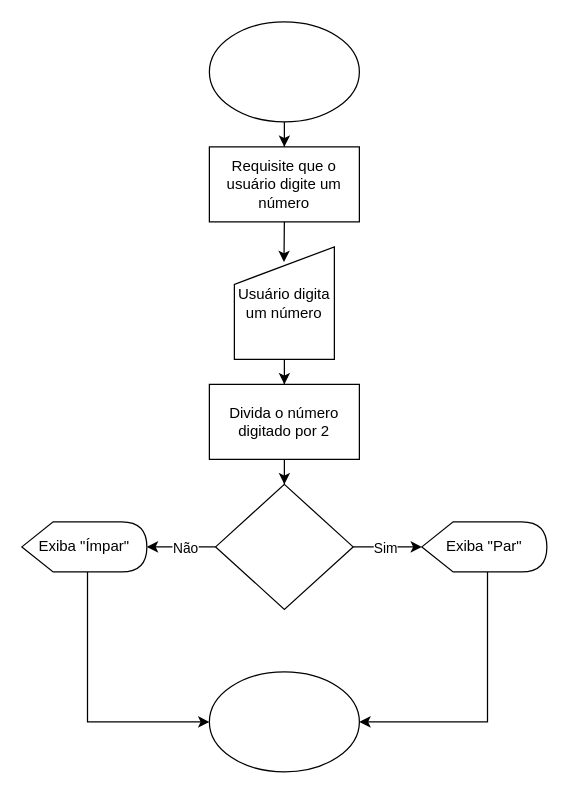
The diagram is 569 pixels wide and 794 high, and some of its shapes have lost their labels. Each missing label, with the centre of its shape:
"Fim" belongs at (283,721).
"Início" belongs at (283,71).
"O resto da divisão foi 0?" belongs at (283,546).
